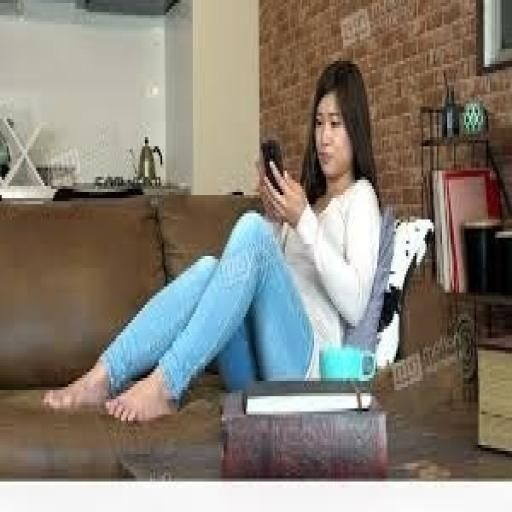texting: (39, 55, 386, 427)
